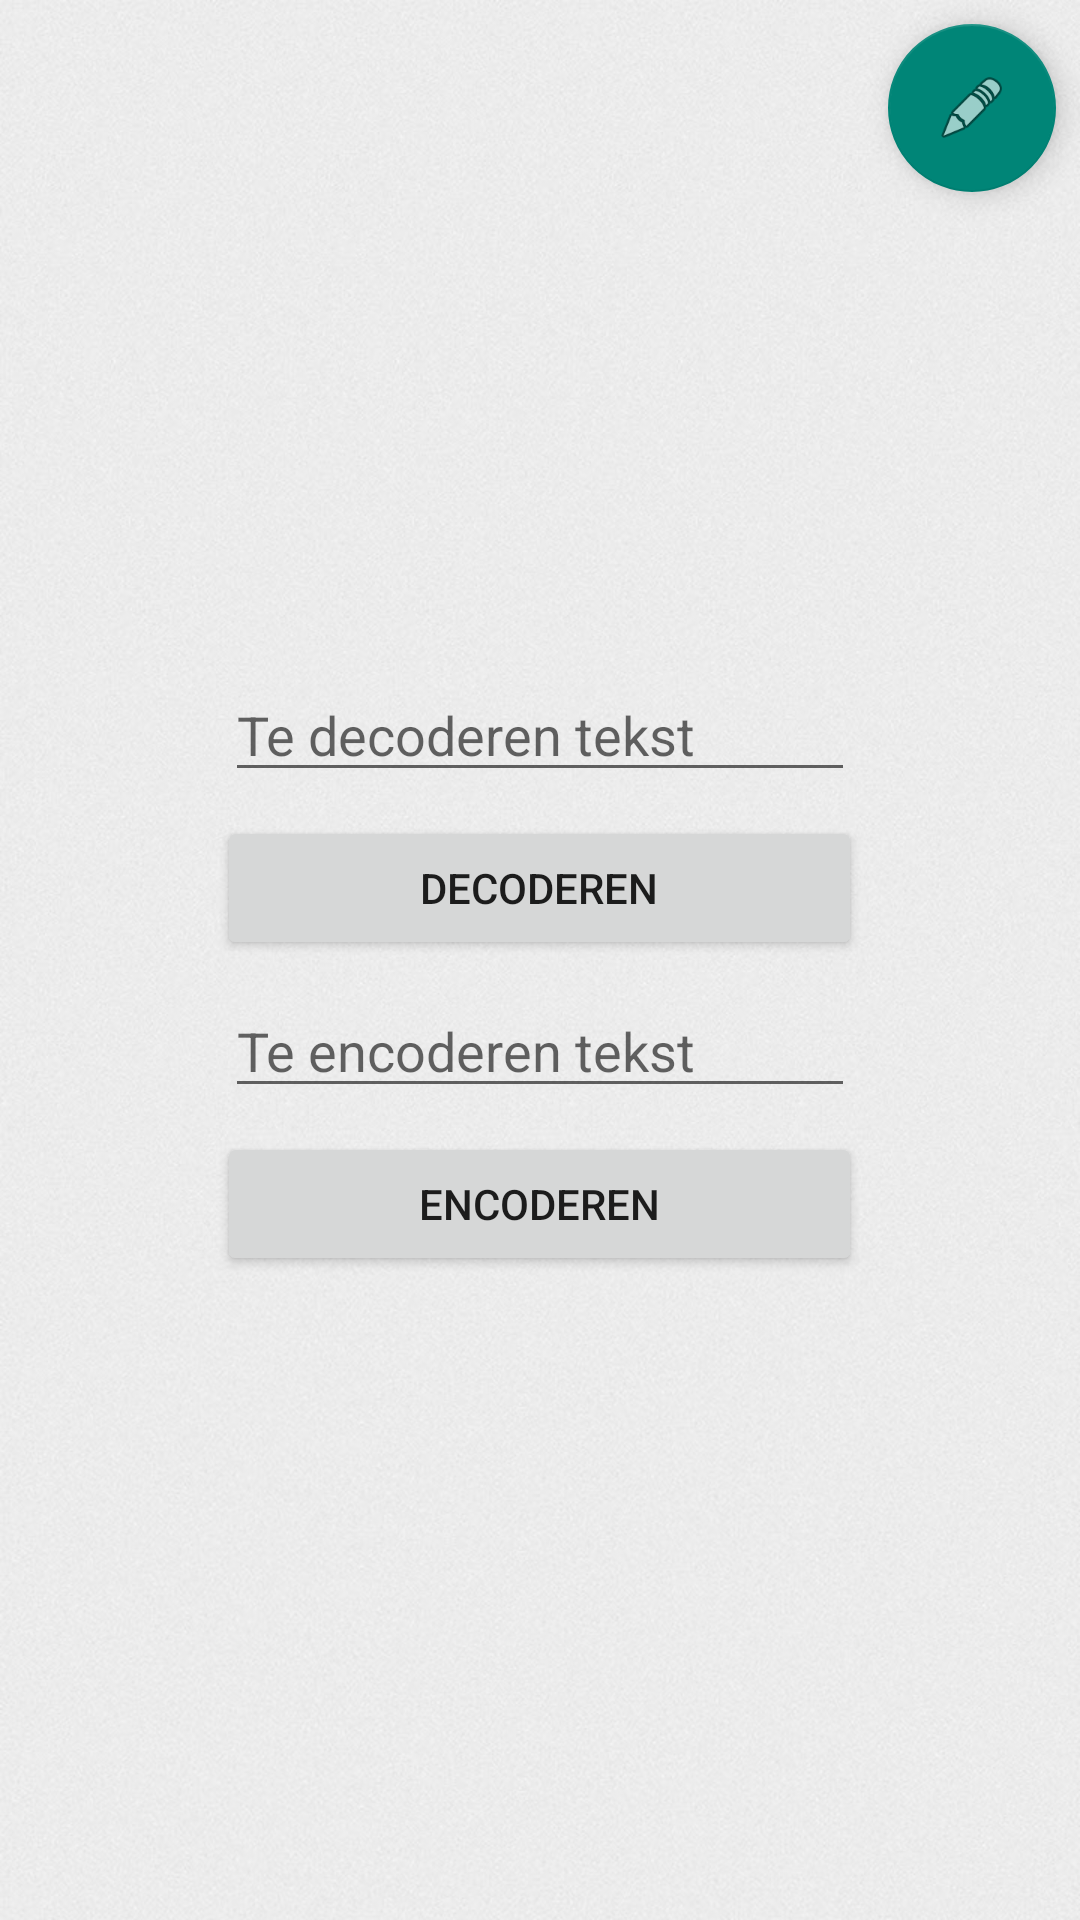

Icon click points for this 1080x1920 phone screenshot, format (x=x, y=y):
edit: (x=972, y=108)
